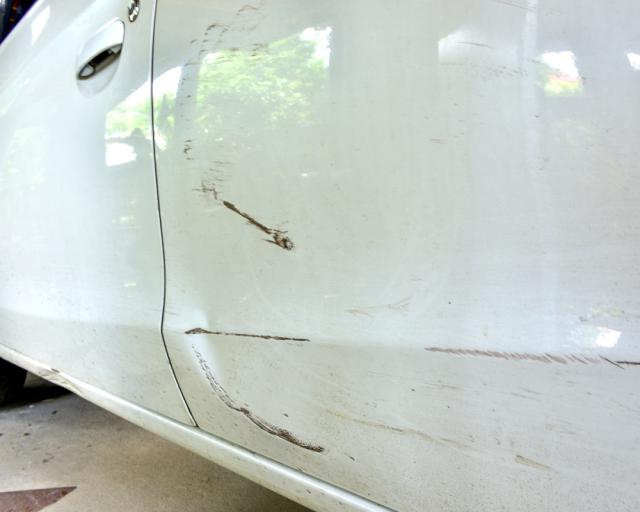scratch: (184, 324, 335, 460), (178, 0, 276, 162), (197, 157, 296, 254), (419, 339, 640, 373)
